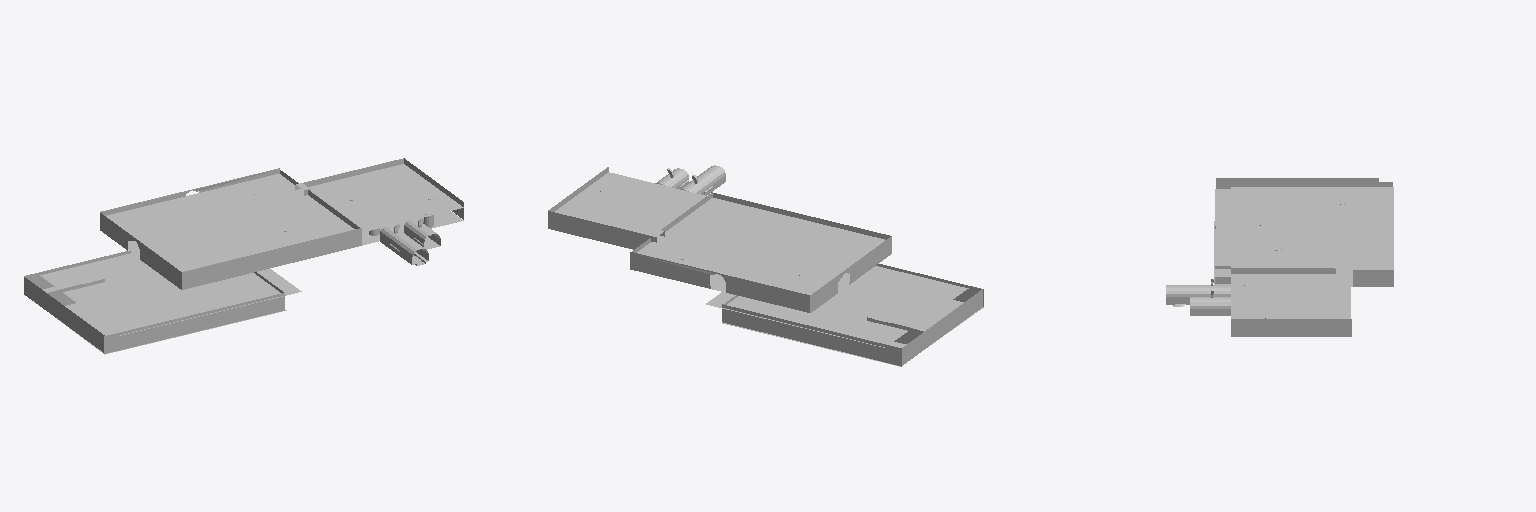
File: dungeon.obj
3 renders of one model, left to right at view 1: azimuth 30°, elevation 25°; view 2: azimuth 150°, elevation 25°; view 3: azimuth 270°, elevation 25°, orthographic.
Parts seen in each view (by area): view 1: Cylinder.052_Cylinder.070, Cylinder.053_Cylinder.071, Cylinder.051_Cylinder.069, Cylinder.014_Cylinder.032, Cylinder.012_Cylinder.030, Cylinder.048_Cylinder.066, Cylinder.016_Cylinder.034, Cylinder.050_Cylinder.068, Cylinder.021_Cylinder.039, Cylinder.013_Cylinder.031, Cylinder.008_Cylinder.027; view 2: Cylinder.052_Cylinder.070, Cylinder.053_Cylinder.071, Cylinder.051_Cylinder.069, Cylinder.013_Cylinder.031, Cylinder.021_Cylinder.039, Cylinder.018_Cylinder.036, Cylinder.048_Cylinder.066, Cylinder.017_Cylinder.035, Cylinder.014_Cylinder.032, Cylinder.016_Cylinder.034, Cylinder.050_Cylinder.068; view 3: Cylinder.052_Cylinder.070, Cylinder.051_Cylinder.069, Cylinder.026_Cylinder.044, Cylinder.053_Cylinder.071, Cylinder.048_Cylinder.066, Cylinder.045_Cylinder.063, Cylinder.024_Cylinder.042, Cylinder.038_Cylinder.056.
Boxes of the visible parts, <box> form: Cylinder.052_Cylinder.070: <box>106,174,354,271</box>; Cylinder.053_Cylinder.071: <box>40,253,301,335</box>; Cylinder.051_Cylinder.069: <box>300,164,463,232</box>; Cylinder.014_Cylinder.032: <box>182,228,361,289</box>; Cylinder.012_Cylinder.030: <box>104,293,284,353</box>; Cylinder.048_Cylinder.066: <box>24,277,104,352</box>; Cylinder.016_Cylinder.034: <box>140,242,181,289</box>; Cylinder.050_Cylinder.068: <box>43,287,286,354</box>; Cylinder.021_Cylinder.039: <box>295,158,403,189</box>; Cylinder.013_Cylinder.031: <box>24,250,131,289</box>; Cylinder.008_Cylinder.027: <box>362,211,463,245</box>; Cylinder.052_Cylinder.070: <box>637,198,884,294</box>; Cylinder.053_Cylinder.071: <box>706,266,968,347</box>; Cylinder.051_Cylinder.069: <box>555,172,705,237</box>; Cylinder.013_Cylinder.031: <box>722,304,901,366</box>; Cylinder.021_Cylinder.039: <box>548,211,656,249</box>; Cylinder.018_Cylinder.036: <box>726,275,809,312</box>; Cylinder.048_Cylinder.066: <box>902,289,982,365</box>; Cylinder.017_Cylinder.035: <box>630,252,710,288</box>; Cylinder.014_Cylinder.032: <box>711,192,890,239</box>; Cylinder.016_Cylinder.034: <box>849,236,891,284</box>; Cylinder.050_Cylinder.068: <box>722,300,983,366</box>; Cylinder.052_Cylinder.070: <box>1231,187,1393,273</box>; Cylinder.051_Cylinder.069: <box>1231,274,1350,318</box>; Cylinder.026_Cylinder.044: <box>1231,319,1351,336</box>; Cylinder.053_Cylinder.071: <box>1214,189,1230,276</box>; Cylinder.048_Cylinder.066: <box>1216,178,1378,188</box>; Cylinder.045_Cylinder.063: <box>1353,270,1393,286</box>; Cylinder.024_Cylinder.042: <box>1231,268,1335,273</box>; Cylinder.038_Cylinder.056: <box>1166,279,1230,293</box>.
Size of the model in its own units: 74.64 by 11.67 by 40.09.